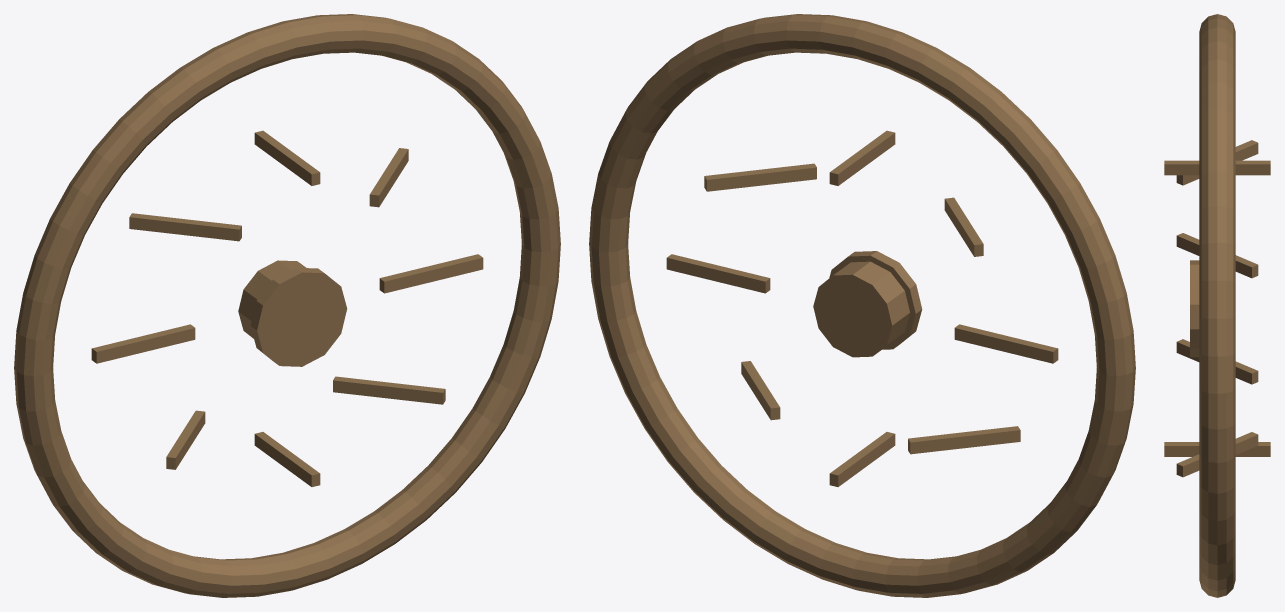
The model's file is wagon_wheel.glb.
3 views of the same model, side by side, from view 1: azimuth 30°, elevation 25°; view 2: azimuth 150°, elevation 25°; view 3: azimuth 270°, elevation 25° (orthographic). The views are drawn at different scales.
Parts seen in each view (by area): view 1: wagon_wheel; view 2: wagon_wheel; view 3: wagon_wheel.
Boxes of the visible parts, x1,y1,x2,y2 form: wagon_wheel: [14, 14, 560, 597]; wagon_wheel: [589, 14, 1135, 597]; wagon_wheel: [1164, 14, 1270, 597].
Size of the model in its own units: 0.96 by 0.96 by 0.175.
